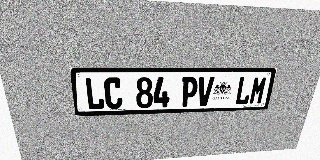4: (153, 77, 171, 108)
8: (136, 77, 153, 108)
C: (104, 77, 123, 109)
L: (84, 77, 105, 110), (234, 76, 254, 105)
M: (248, 76, 268, 105)
P: (180, 77, 198, 107)
V: (196, 77, 215, 106)
